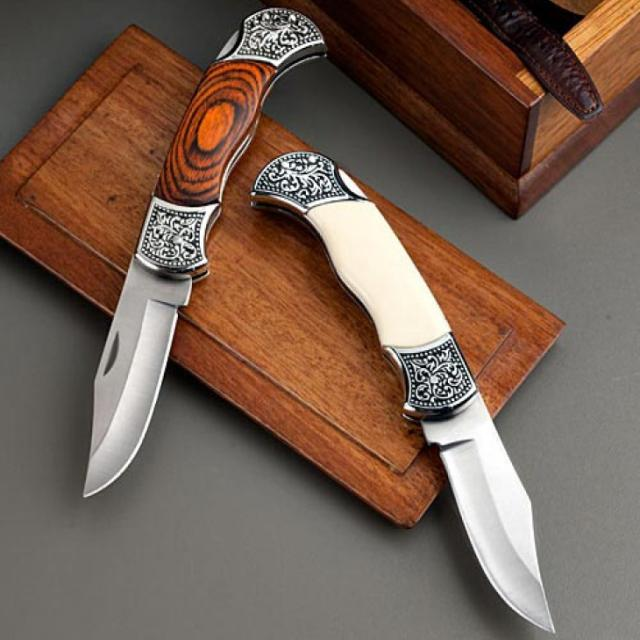knife: (254, 146, 567, 640), (71, 1, 334, 512)
